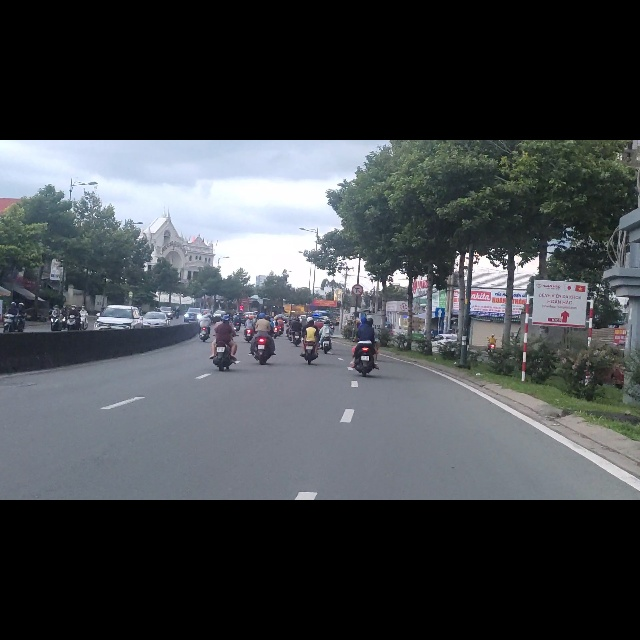bien_cam: (352, 255, 363, 277), (435, 297, 445, 315)
